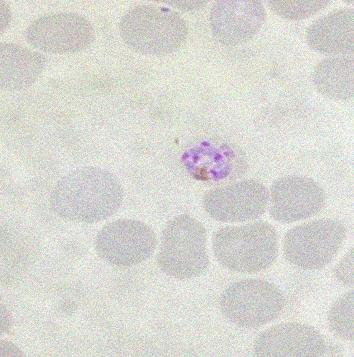Infected: (182, 137, 244, 183)
Uninfected: (51, 166, 123, 226), (155, 214, 211, 278), (212, 220, 276, 274), (118, 8, 188, 57), (284, 215, 342, 272), (94, 217, 156, 267), (219, 279, 283, 327), (200, 178, 268, 223), (24, 12, 93, 54), (267, 174, 325, 221), (210, 0, 265, 49), (0, 39, 47, 93), (304, 6, 354, 56), (255, 321, 323, 357)
